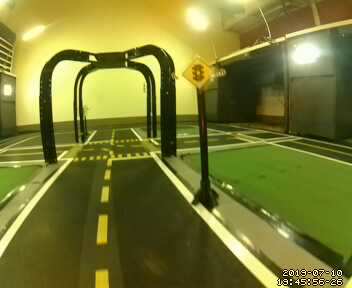Traffic light sign: (183, 57, 214, 90)
